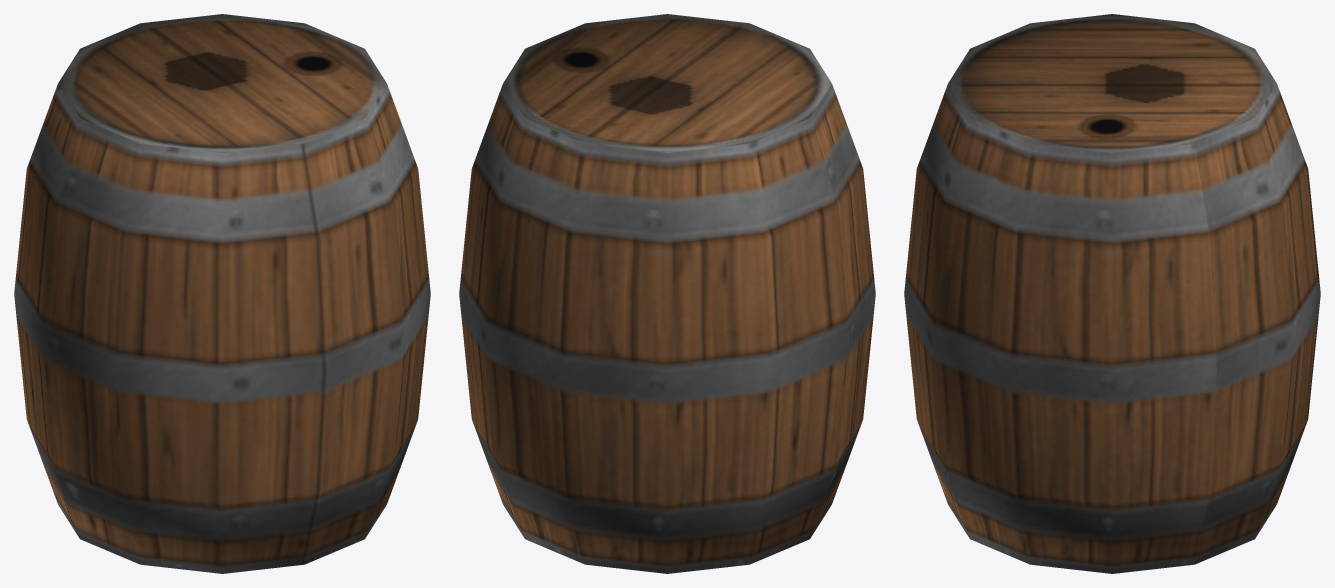
File: Barrel01.fbx
3 views of the same model, side by side, from view 1: azimuth 30°, elevation 25°; view 2: azimuth 150°, elevation 25°; view 3: azimuth 270°, elevation 25° (orthographic).
Parts seen in each view (by area): view 1: Barrel01; view 2: Barrel01; view 3: Barrel01.
Boxes of the visible parts, box(x1,y1,x2,y2) form: Barrel01: box(14, 14, 430, 573); Barrel01: box(459, 14, 875, 573); Barrel01: box(904, 14, 1320, 573).
Size of the model in its own units: 31.77 by 35.41 by 31.77.
